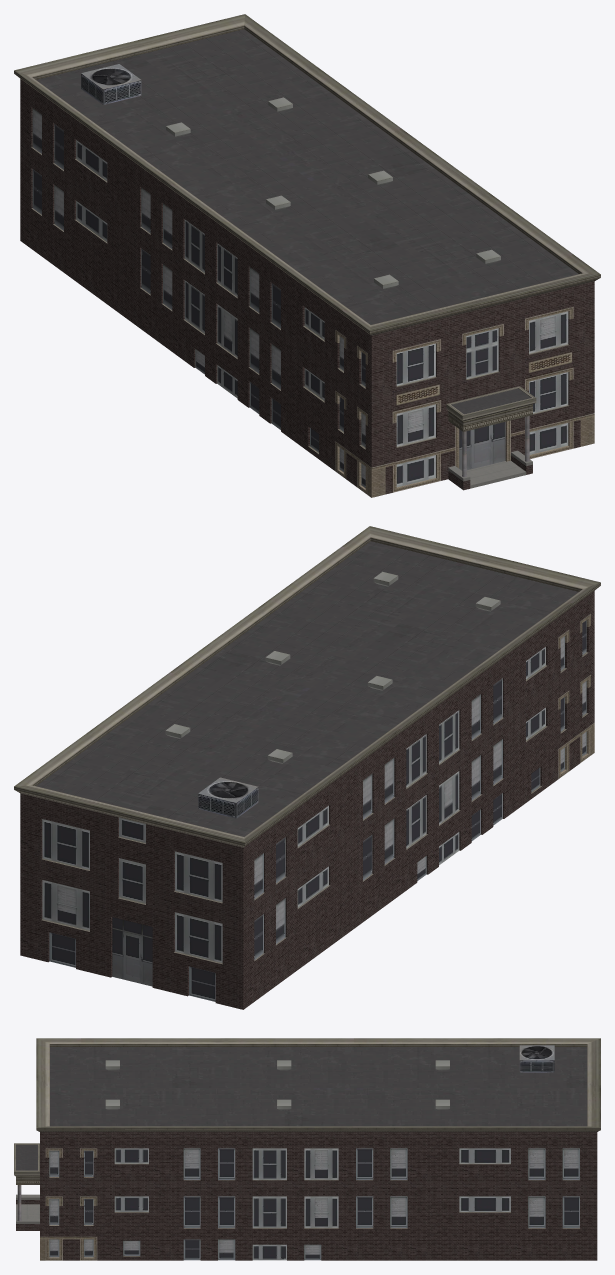
File: midwest.glb
3 renders of one model, top to bottom at view 1: azimuth 30°, elevation 25°; view 2: azimuth 150°, elevation 25°; view 3: azimuth 270°, elevation 25°, orthographic. The views are drawn at different scales.
Parts seen in each view (by area): view 1: Object_2; view 2: Object_2; view 3: Object_2.
Boxes of the visible parts, left/top/right/bottom form: Object_2: left=14, top=14, right=600, bottom=497; Object_2: left=14, top=526, right=600, bottom=1009; Object_2: left=14, top=1038, right=600, bottom=1260.
Bounding box in the file's own units: 1140 × 844 × 3160.
1 material, 1 textured.
